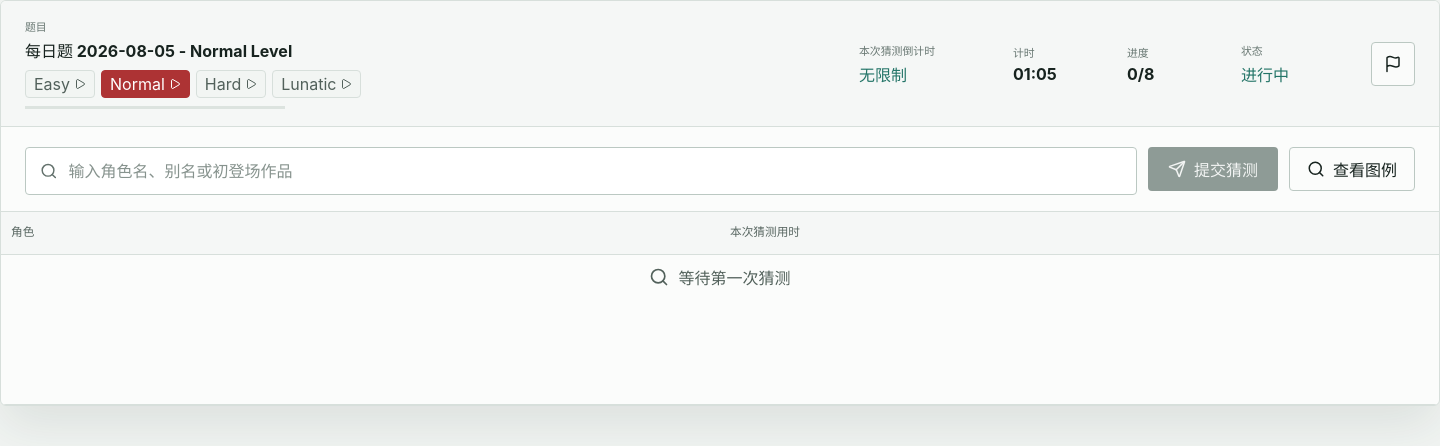
it: SingleGamePage › selects a search suggestion with the keyboard
This screenshot has width=1440, height=446.
Step 1. Type "帕秋莉" into the field named "搜索东方角色" → {"x": 595, "y": 171}, box [68,161,1122,181]
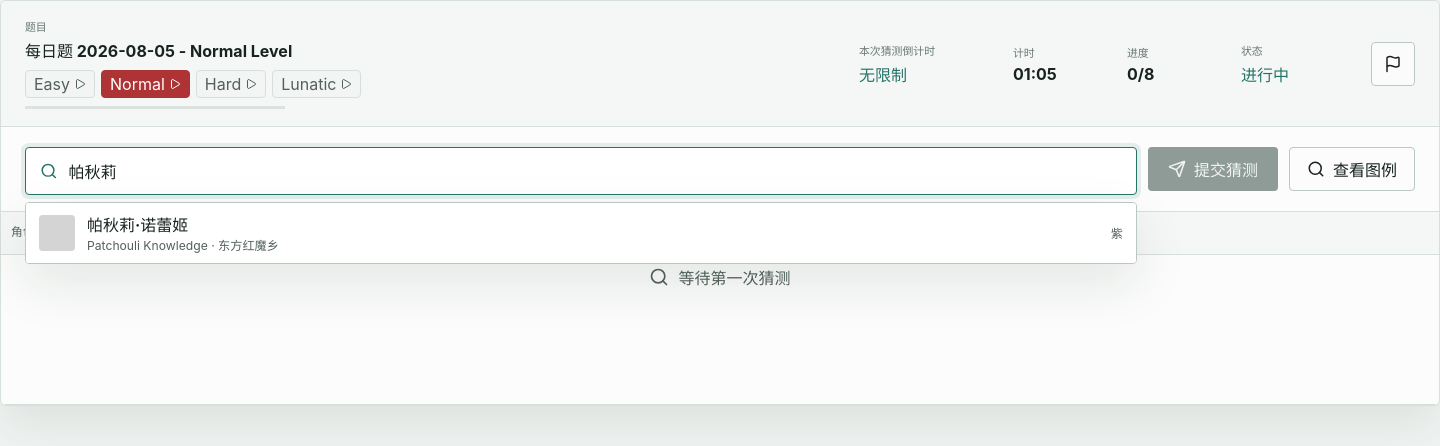
Step 2. Press Arrowdown Enter
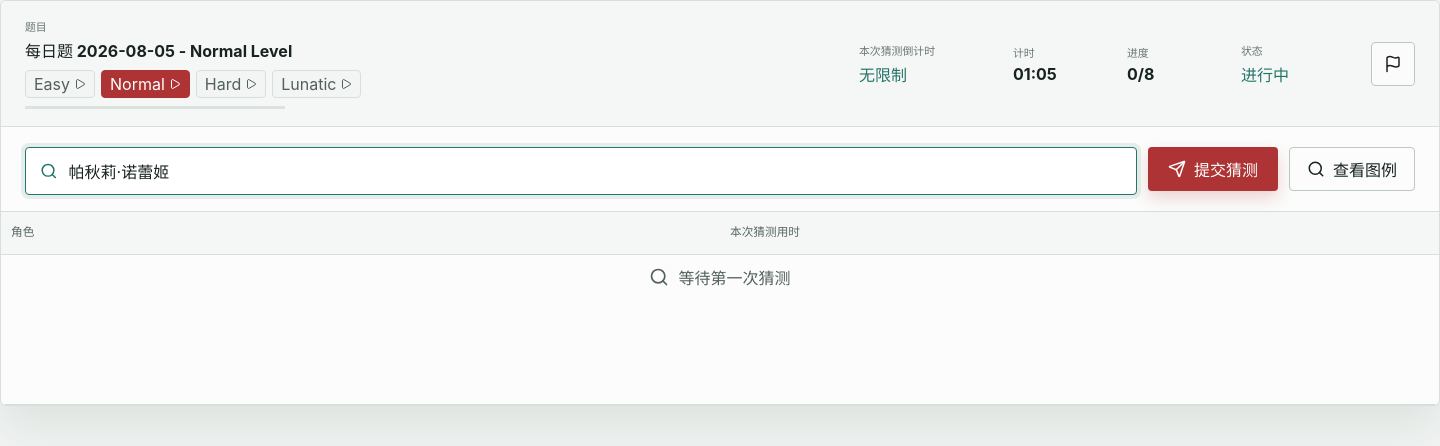
Now the field named "搜索东方角色" holds "帕秋莉·诺蕾姬", box [68,161,1122,181]
Now the button "提交猜测" is enabled, box [1148,147,1278,191]
